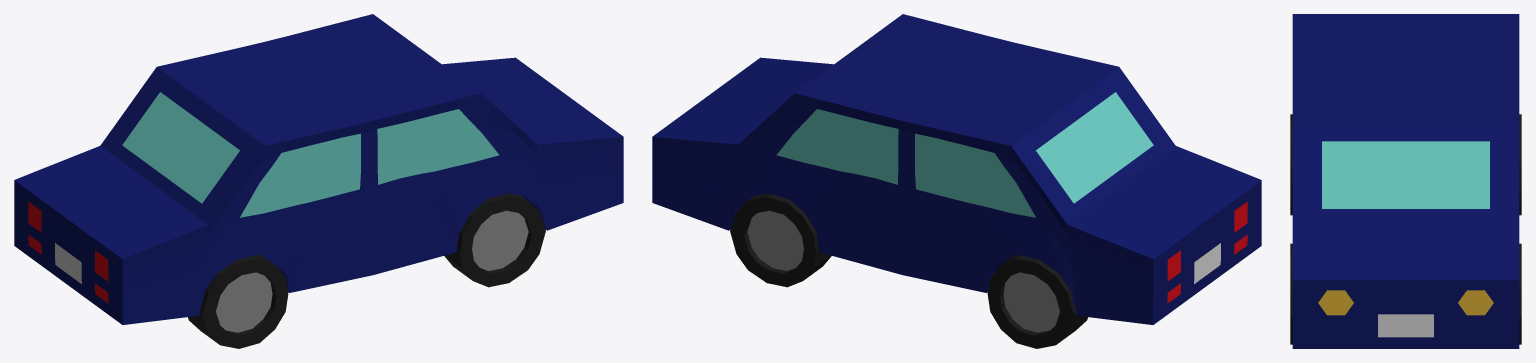
The model's file is Autos.fbx.
The picture shows the model from 3 angles, left to right: view 1: azimuth 30°, elevation 25°; view 2: azimuth 150°, elevation 25°; view 3: azimuth 270°, elevation 25°; orthographic projection. The views are drawn at different scales.
Visible parts, largest first — view 1: Auto_basico_low; view 2: Auto_basico_low; view 3: Auto_basico_low.
Boxes of the visible parts, x1,y1,x2,y2 form: Auto_basico_low: (14, 14, 623, 348); Auto_basico_low: (652, 14, 1261, 348); Auto_basico_low: (1290, 14, 1521, 348).
Bounding box in the file's own units: 1266 × 472 × 482.
